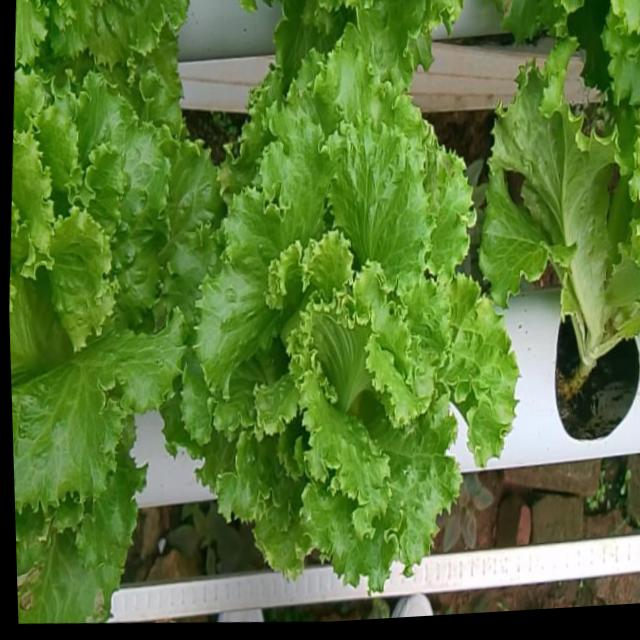Mature: (172, 61, 508, 601), (9, 83, 211, 527)
